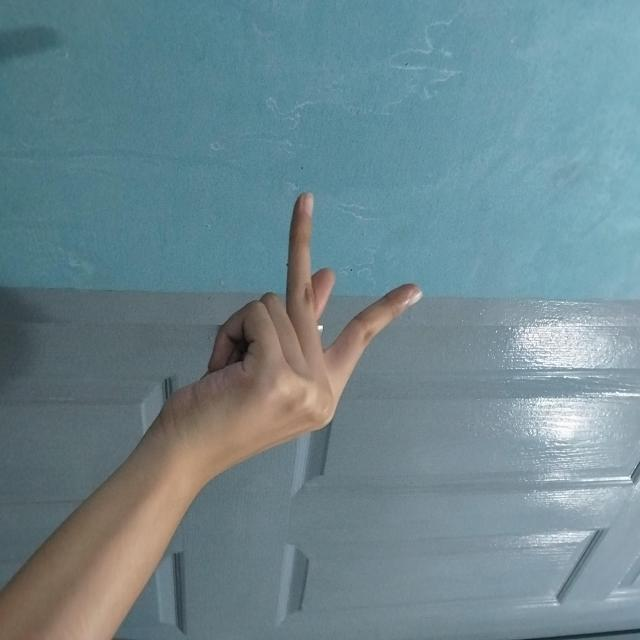K: (193, 218, 455, 477)
